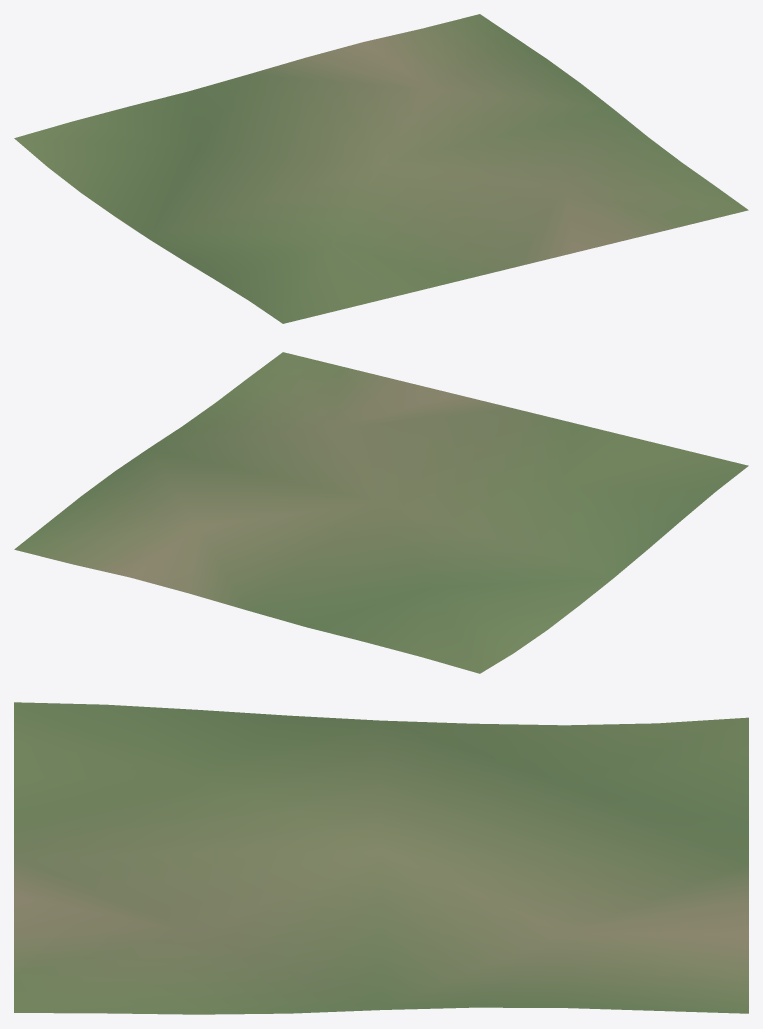
File: Terrain-3-2-4.glb
3 renders of one model, top to bottom at view 1: azimuth 30°, elevation 25°; view 2: azimuth 150°, elevation 25°; view 3: azimuth 270°, elevation 25°, orthographic. The views are drawn at different scales.
Parts seen in each view (by area): view 1: Terrain-3-2-4; view 2: Terrain-3-2-4; view 3: Terrain-3-2-4.
Part boxes in pixels (box(x1,y1,x2,y2)): Terrain-3-2-4: box(14, 14, 748, 323); Terrain-3-2-4: box(14, 352, 748, 673); Terrain-3-2-4: box(14, 702, 748, 1014).
Bounding box in the file's own units: 6 × 0.2681 × 6.
